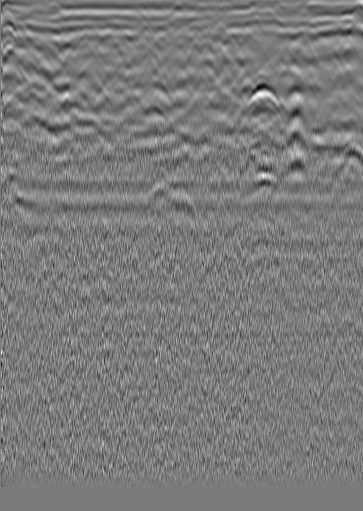가스: (246, 167, 284, 194)
상수: (2, 48, 22, 68)
오수: (318, 19, 338, 39)
우수: (150, 25, 170, 45)
